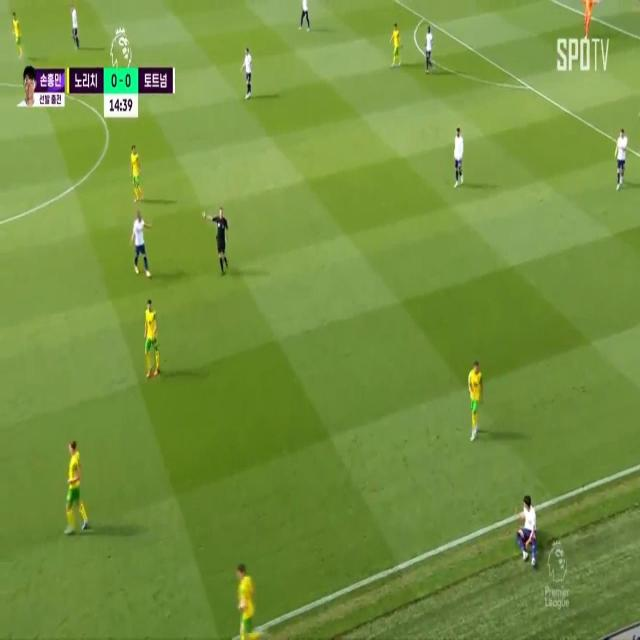player: (510, 492, 538, 566), (127, 207, 148, 281), (610, 126, 632, 196), (142, 299, 161, 377), (235, 563, 253, 637), (65, 438, 79, 530), (3, 2, 25, 58), (63, 4, 83, 59), (467, 356, 482, 428), (239, 47, 259, 99), (126, 142, 144, 198), (451, 121, 464, 191), (419, 22, 435, 76), (389, 16, 402, 59), (300, 0, 313, 33)
referee: (215, 198, 233, 280)
